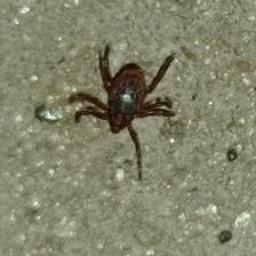Rhipicephalus sanguineus: (66, 44, 176, 183)
